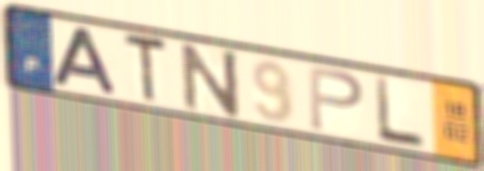9: (250, 57, 297, 125)
A: (50, 25, 121, 97)
L: (372, 74, 428, 152)
N: (178, 41, 244, 120)
P: (306, 63, 366, 134)
T: (121, 30, 171, 106)
